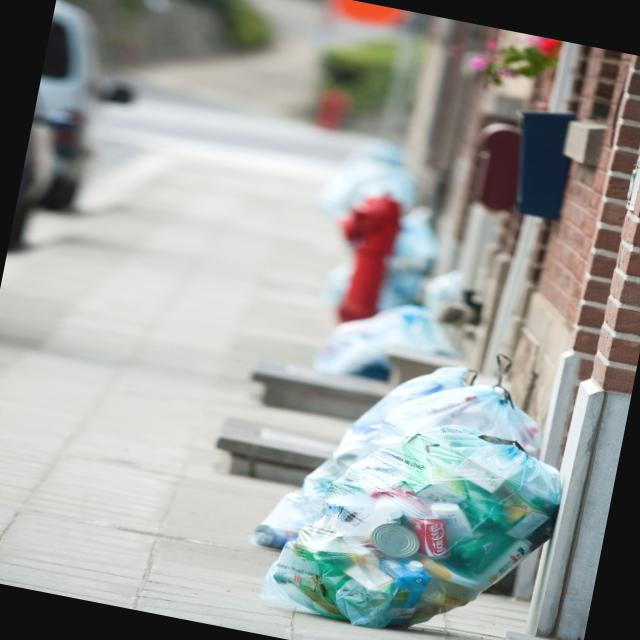garbage: (209, 322, 594, 640)
